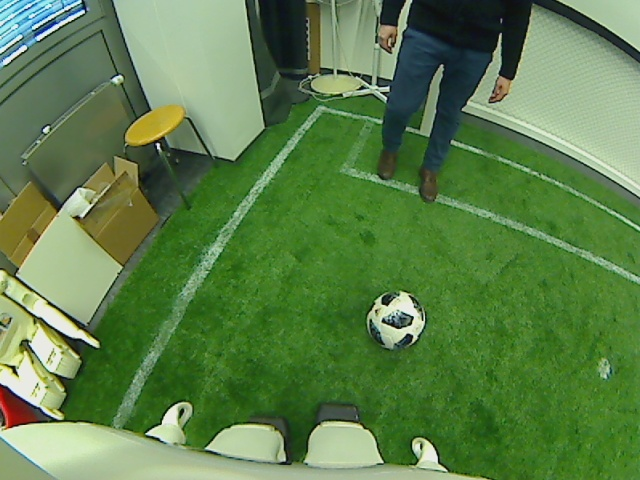ball: (363, 290, 426, 349)
